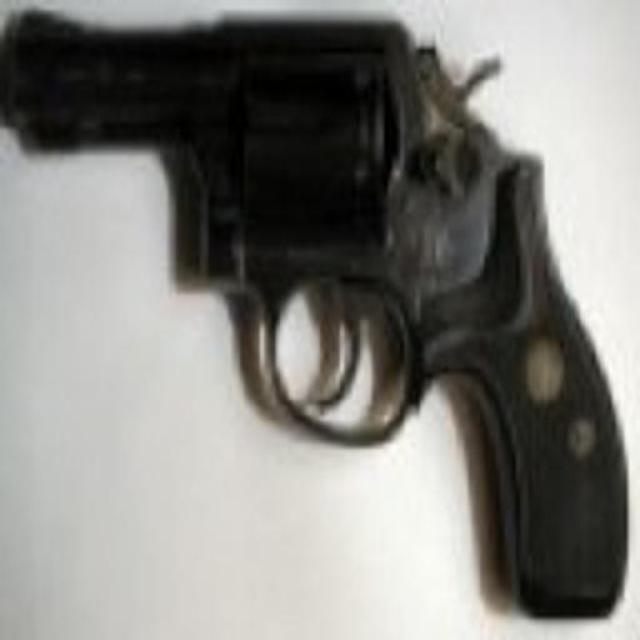pistol: (7, 15, 627, 602)
